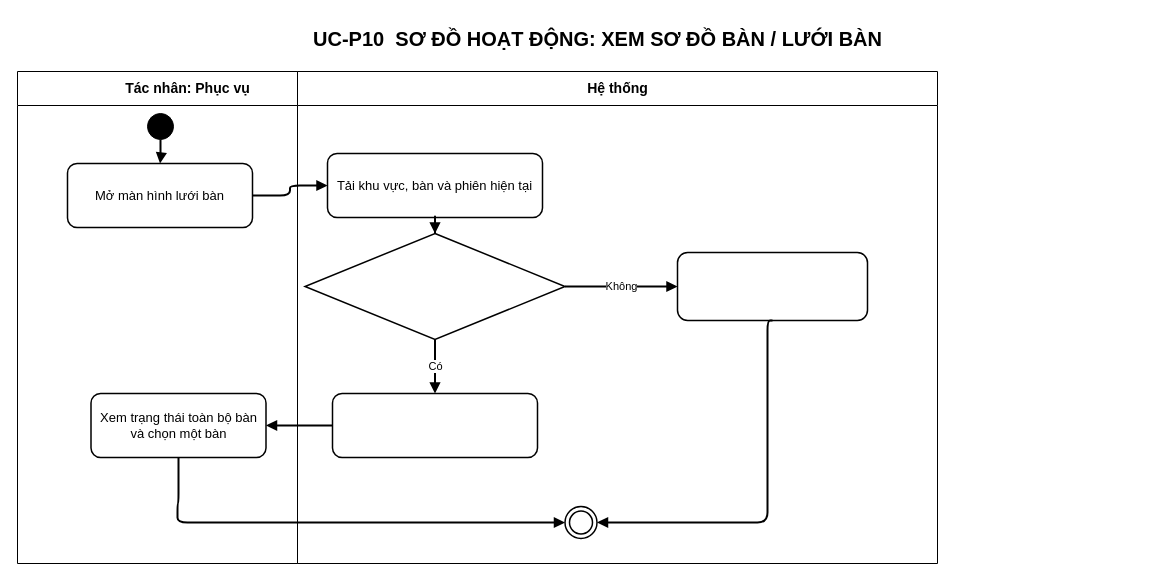
The diagram is 1165 pixels wide and 581 high, and some of its shapes have lost their labels. The centre of each missing label's shape, as x and y in pixels:
"Bàn có phiên đang phục vụ?" belongs at point 434,286.
"Hiển thị bàn trống kèm trạng thái và sức chứa" belongs at point 772,286.
"Hiển thị danh sách bàn đang hoạt động" belongs at point 434,425.
